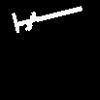double_crochet: (12, 7, 81, 32)
